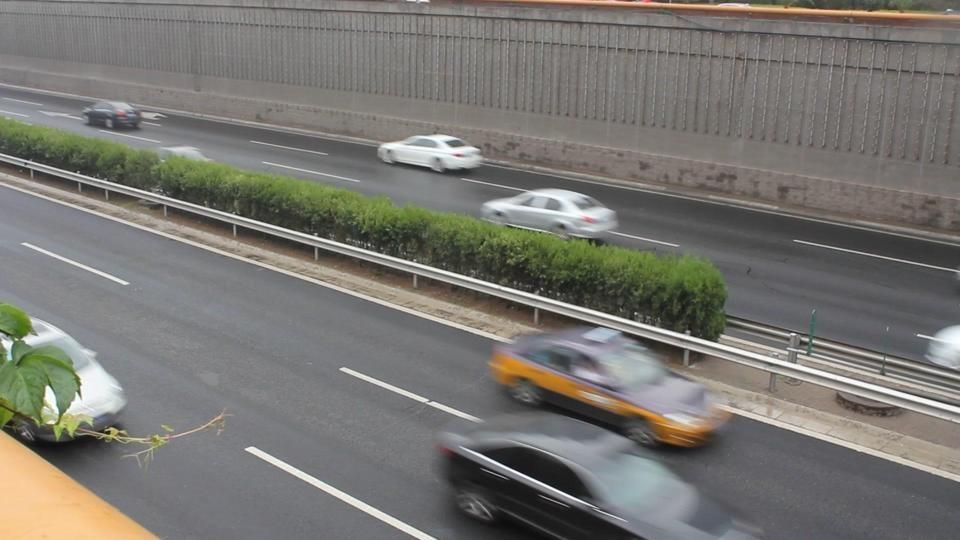car: (431, 418, 758, 540), (485, 325, 729, 450), (479, 189, 618, 242), (376, 133, 482, 175), (917, 323, 960, 372), (82, 99, 142, 130)
